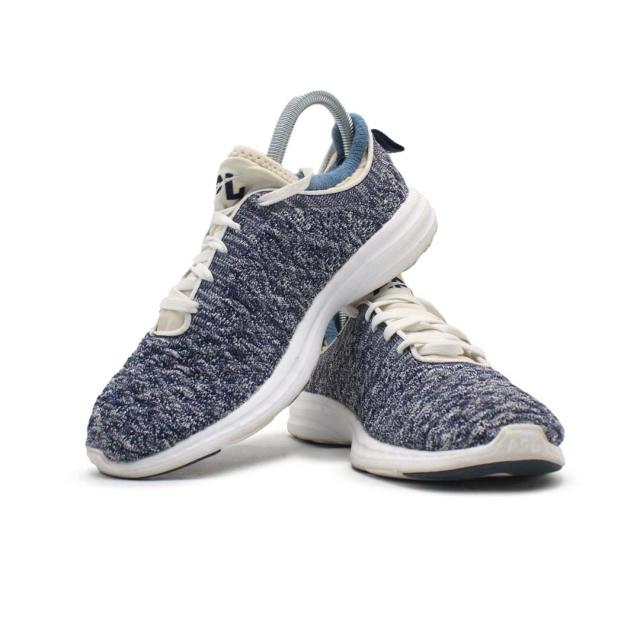heel: (347, 114, 411, 232)
midsole: (87, 191, 438, 478), (288, 391, 562, 487)
uppersole: (87, 145, 379, 457), (305, 281, 564, 447)
